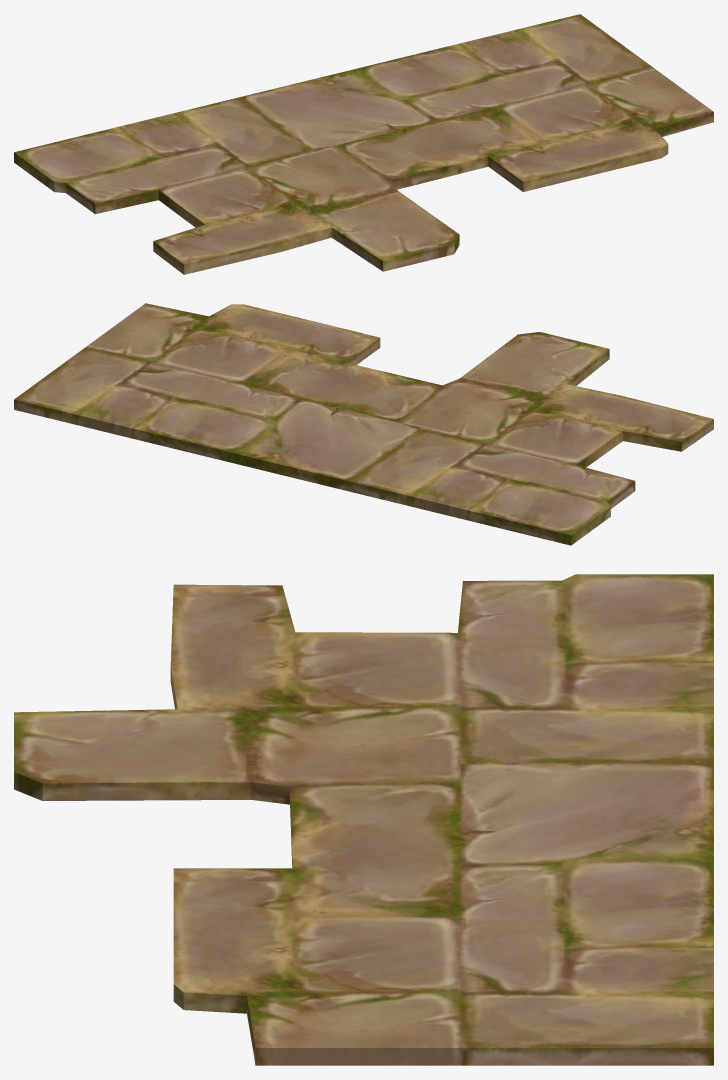
The model's file is Stage_01_01_DiMianShiKuai03.FBX.
3 renders of one model, top to bottom at view 1: azimuth 30°, elevation 25°; view 2: azimuth 150°, elevation 25°; view 3: azimuth 270°, elevation 25°, orthographic. The views are drawn at different scales.
Visible parts, largest first — view 1: Stage_01_01_DiMianShiKuai03; view 2: Stage_01_01_DiMianShiKuai03; view 3: Stage_01_01_DiMianShiKuai03.
Boxes of the visible parts, left/top/right/bottom form: Stage_01_01_DiMianShiKuai03: left=14, top=14, right=713, bottom=274; Stage_01_01_DiMianShiKuai03: left=14, top=303, right=713, bottom=545; Stage_01_01_DiMianShiKuai03: left=14, top=574, right=713, bottom=1065.
Bounding box in the file's own units: 690 × 12.04 × 431.
